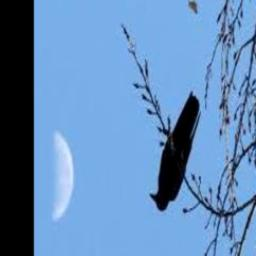Crow: (149, 90, 201, 213)
